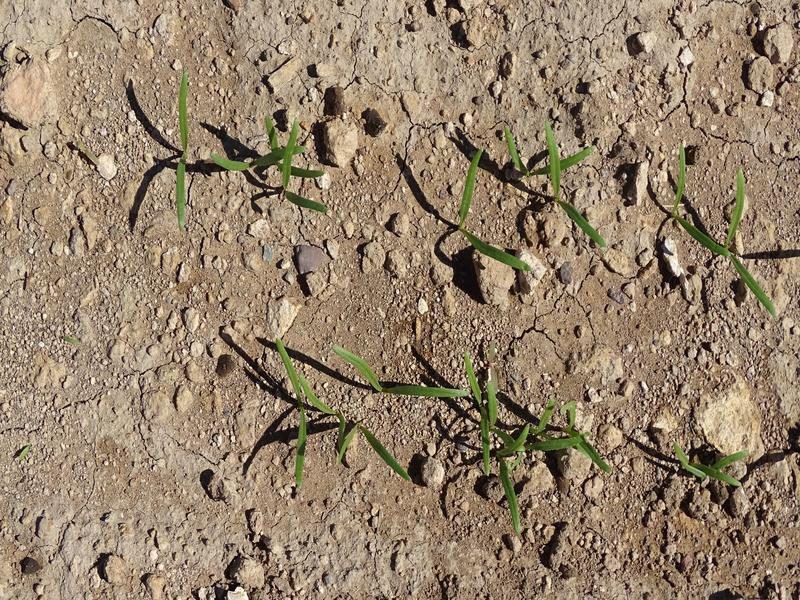Espinaca: (465, 359, 611, 536), (665, 143, 782, 321), (492, 119, 606, 248), (201, 115, 328, 214), (326, 339, 472, 416), (450, 148, 531, 271), (266, 337, 317, 496), (335, 421, 421, 485), (166, 68, 197, 230), (670, 442, 750, 491)
